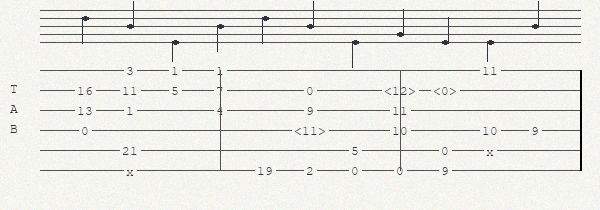0: (81, 124, 93, 136), (306, 84, 318, 96), (351, 164, 363, 176), (396, 164, 408, 176), (441, 144, 453, 156)
1: (126, 104, 138, 116), (171, 64, 183, 76), (216, 64, 228, 76)
10: (392, 124, 412, 136), (482, 124, 502, 136)
11: (122, 84, 142, 96), (392, 104, 412, 116), (482, 64, 502, 76)
13: (77, 104, 97, 116)
16: (77, 84, 97, 96)
19: (257, 164, 277, 176)
2: (306, 164, 318, 176)
21: (122, 144, 142, 156)
3: (126, 64, 138, 76)
4: (216, 104, 228, 116)
5: (171, 84, 183, 96), (351, 144, 363, 156)
7: (216, 84, 228, 96)
9: (306, 104, 318, 116), (441, 164, 453, 176), (531, 124, 543, 136)
harmonic: (294, 124, 330, 137), (384, 84, 420, 97), (433, 84, 461, 97)
x: (126, 165, 138, 175), (486, 145, 498, 155)
